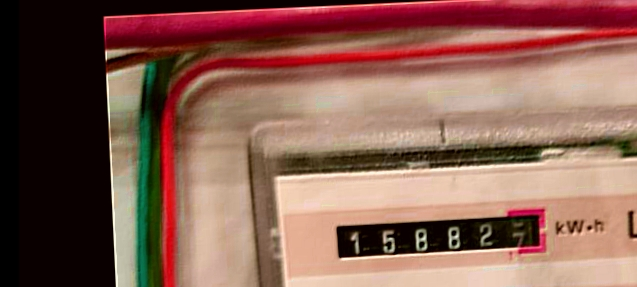1: (350, 231, 365, 256)
2: (480, 223, 496, 247)
5: (382, 228, 399, 255)
7: (513, 229, 528, 249)
8: (415, 228, 432, 254), (448, 225, 464, 251)
screen: (323, 201, 559, 274)
